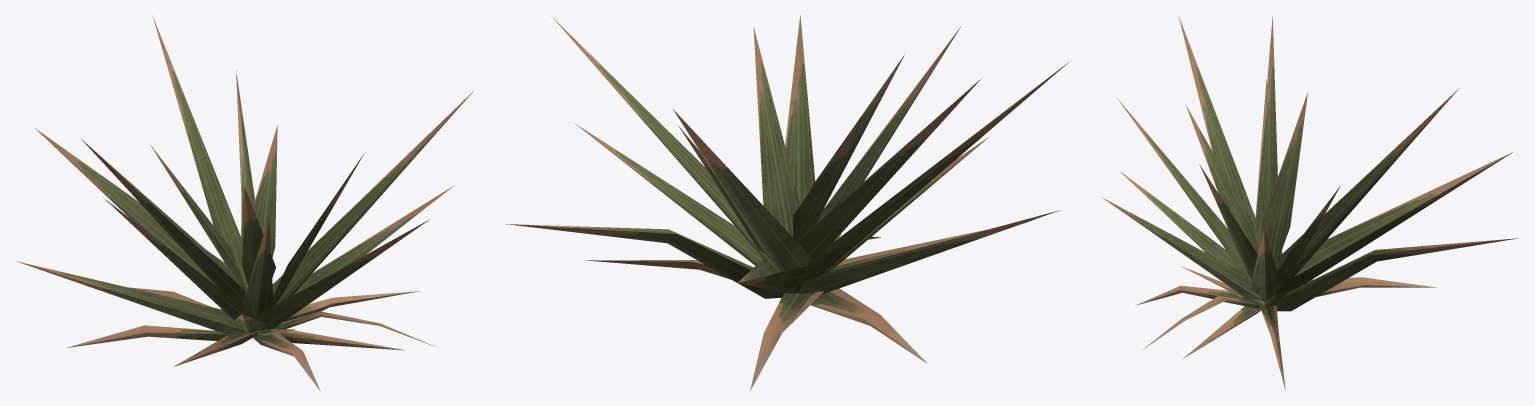
The picture shows the model from 3 angles, left to right: view 1: azimuth 30°, elevation 25°; view 2: azimuth 150°, elevation 25°; view 3: azimuth 270°, elevation 25°; orthographic projection. The views are drawn at different scales.
Visible parts, largest first — view 1: body0_model0_lod0_mesh0; view 2: body0_model0_lod0_mesh0; view 3: body0_model0_lod0_mesh0.
Boxes of the visible parts, x1,y1,x2,y2 form: body0_model0_lod0_mesh0: (16, 16, 473, 391); body0_model0_lod0_mesh0: (505, 15, 1069, 390); body0_model0_lod0_mesh0: (1102, 16, 1517, 390).
Size of the model in its own units: 95.63 by 49.54 by 82.92.
1 material, 1 textured.
